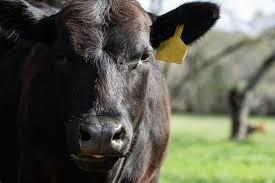cow: (0, 0, 219, 183)
